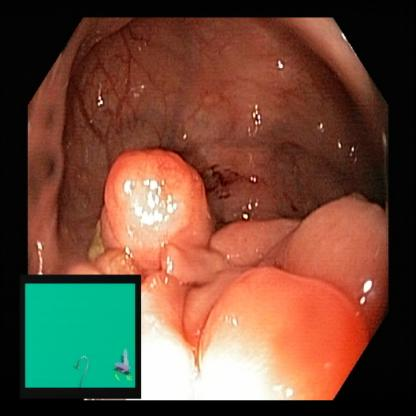Labels: (23, 275, 142, 395)
Polyps: (209, 278, 346, 393), (111, 156, 209, 273), (294, 205, 389, 300)
